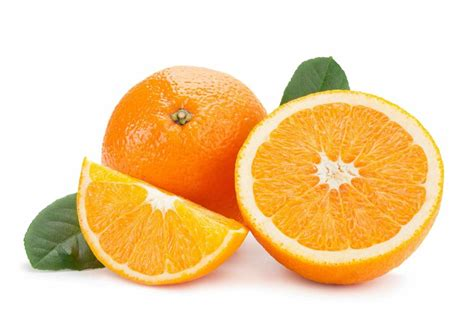orange: (99, 64, 271, 202)
